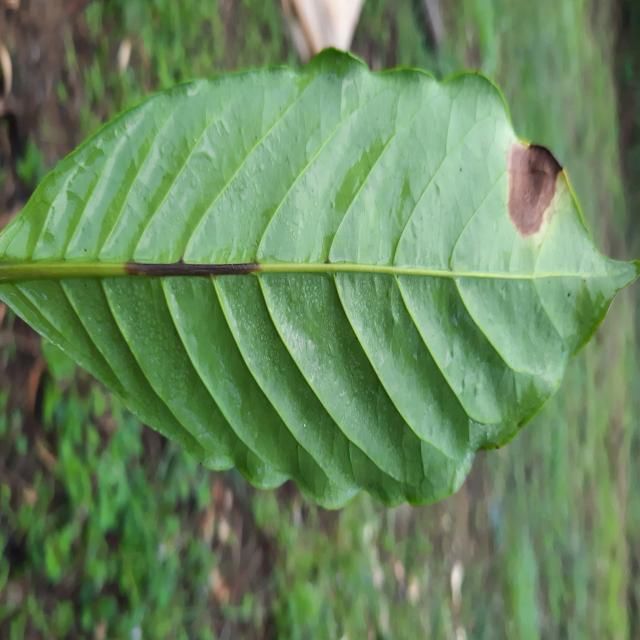Enfermedad-Mancha-de-hierro: (0, 52, 634, 512)
